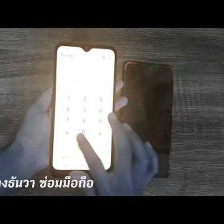phone: (47, 40, 121, 177), (114, 56, 178, 186)
